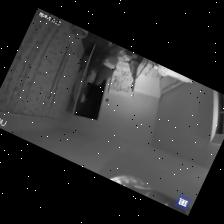person: (94, 41, 123, 84)
